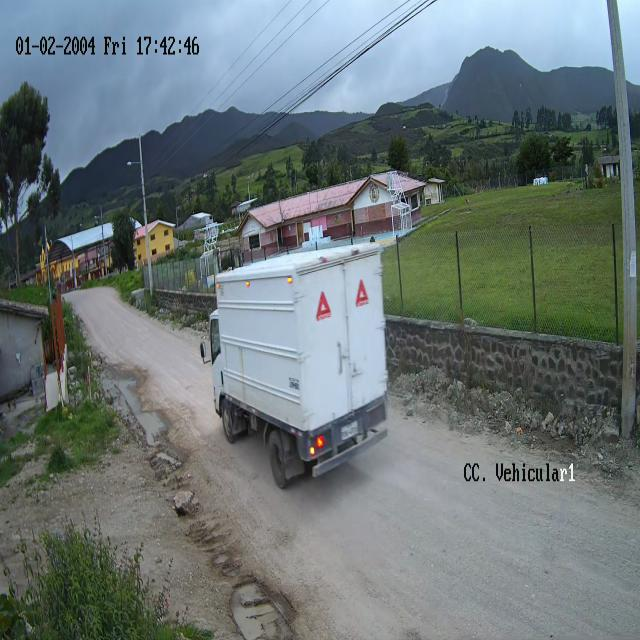TRUCK: (200, 243, 388, 489)
